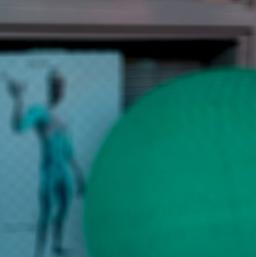algae: (81, 63, 256, 257)
